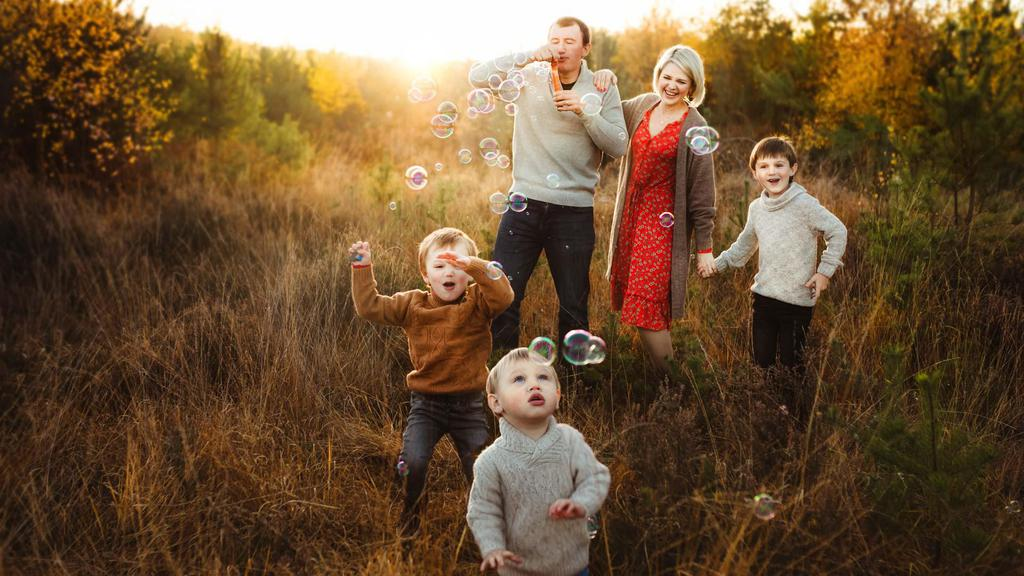child: (343, 212, 507, 540), (457, 341, 611, 576)
